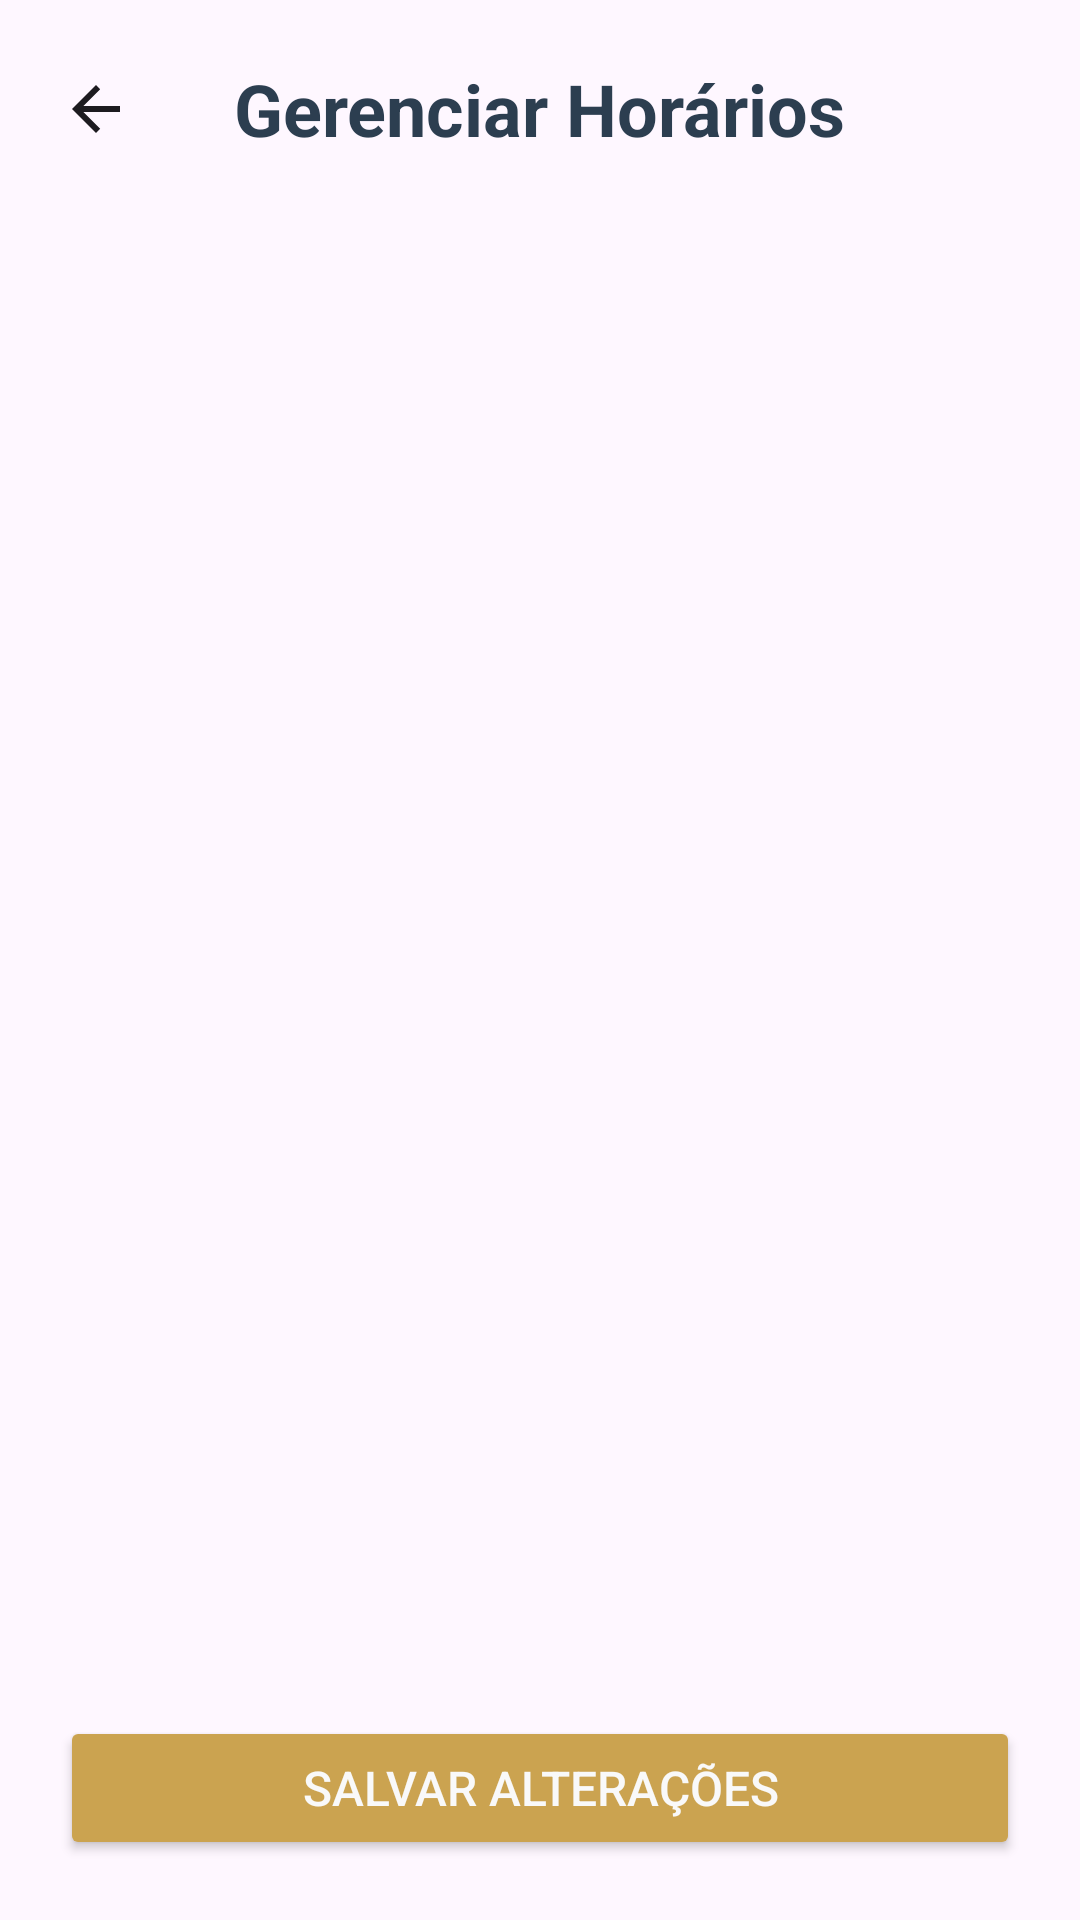

Named icons in this screenshot (1080w x 1920h) and their centers, [x,y]:
Seta para voltar: [96,109]
